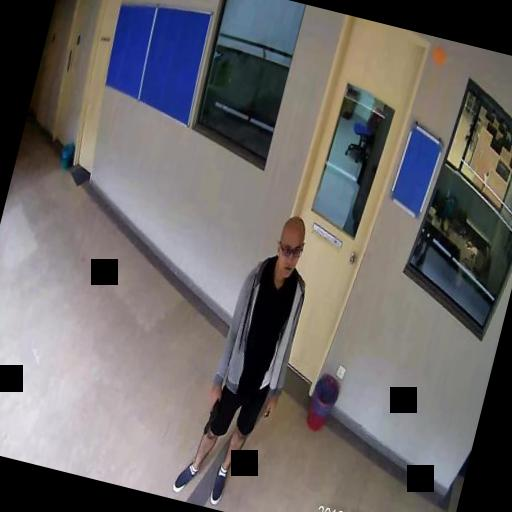Handgun: (200, 389, 222, 434)
